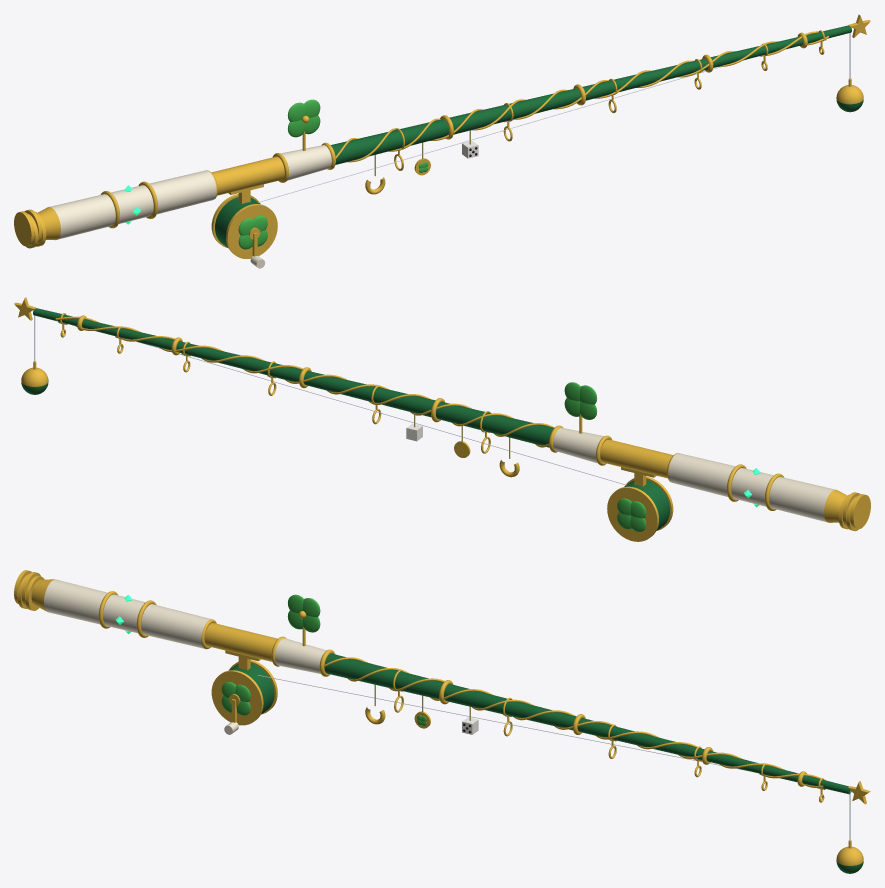
The model's file is ROD_FORTUNE.glb.
3 renders of one model, top to bottom at view 1: azimuth 30°, elevation 25°; view 2: azimuth 150°, elevation 25°; view 3: azimuth 330°, elevation 25°, orthographic.
Visible parts, largest first — view 1: blank, rear_grip, reel_seat, reel_plate_f, fore_grip, gold_filigree, gold_filigree_b, reel_body, line, butt_coin_3, butt_cap; view 2: blank, rear_grip, reel_seat, reel_plate_b, fore_grip, gold_filigree, gold_filigree_b, reel_body, line, butt_coin_3, butt_cap; view 3: blank, rear_grip, reel_seat, reel_plate_f, fore_grip, gold_filigree, gold_filigree_b, reel_body, line.
Part boxes in pixels (left/top/right/bottom): blank: left=331, top=25, right=851, bottom=164; rear_grip: left=50, top=170, right=216, bottom=239; reel_seat: left=211, top=156, right=284, bottom=195; reel_plate_f: left=226, top=204, right=277, bottom=259; fore_grip: left=280, top=145, right=331, bottom=180; gold_filigree: left=335, top=35, right=829, bottom=158; gold_filigree_b: left=347, top=31, right=818, bottom=162; reel_body: left=215, top=197, right=260, bottom=247; line: left=258, top=59, right=745, bottom=202; butt_coin_3: left=14, top=211, right=34, bottom=246; butt_cap: left=38, top=207, right=60, bottom=240; blank: left=33, top=308, right=553, bottom=447; rear_grip: left=668, top=453, right=834, bottom=522; reel_seat: left=600, top=439, right=673, bottom=478; reel_plate_b: left=607, top=486, right=658, bottom=541; fore_grip: left=553, top=427, right=604, bottom=463; gold_filigree: left=75, top=326, right=554, bottom=436; gold_filigree_b: left=55, top=316, right=548, bottom=447; reel_body: left=624, top=480, right=669, bottom=530; line: left=139, top=342, right=626, bottom=485; butt_coin_3: left=850, top=494, right=870, bottom=528; butt_cap: left=824, top=489, right=846, bottom=522; blank: left=324, top=653, right=851, bottom=794; rear_grip: left=44, top=579, right=211, bottom=648; reel_seat: left=204, top=623, right=277, bottom=661; reel_plate_f: left=211, top=670, right=263, bottom=725; fore_grip: left=275, top=638, right=326, bottom=673; gold_filigree: left=323, top=657, right=823, bottom=787; gold_filigree_b: left=347, top=668, right=826, bottom=780; reel_body: left=229, top=663, right=274, bottom=714; line: left=258, top=675, right=748, bottom=771.
Size of the model in its own units: 1.78 by 0.2873 by 0.099.
